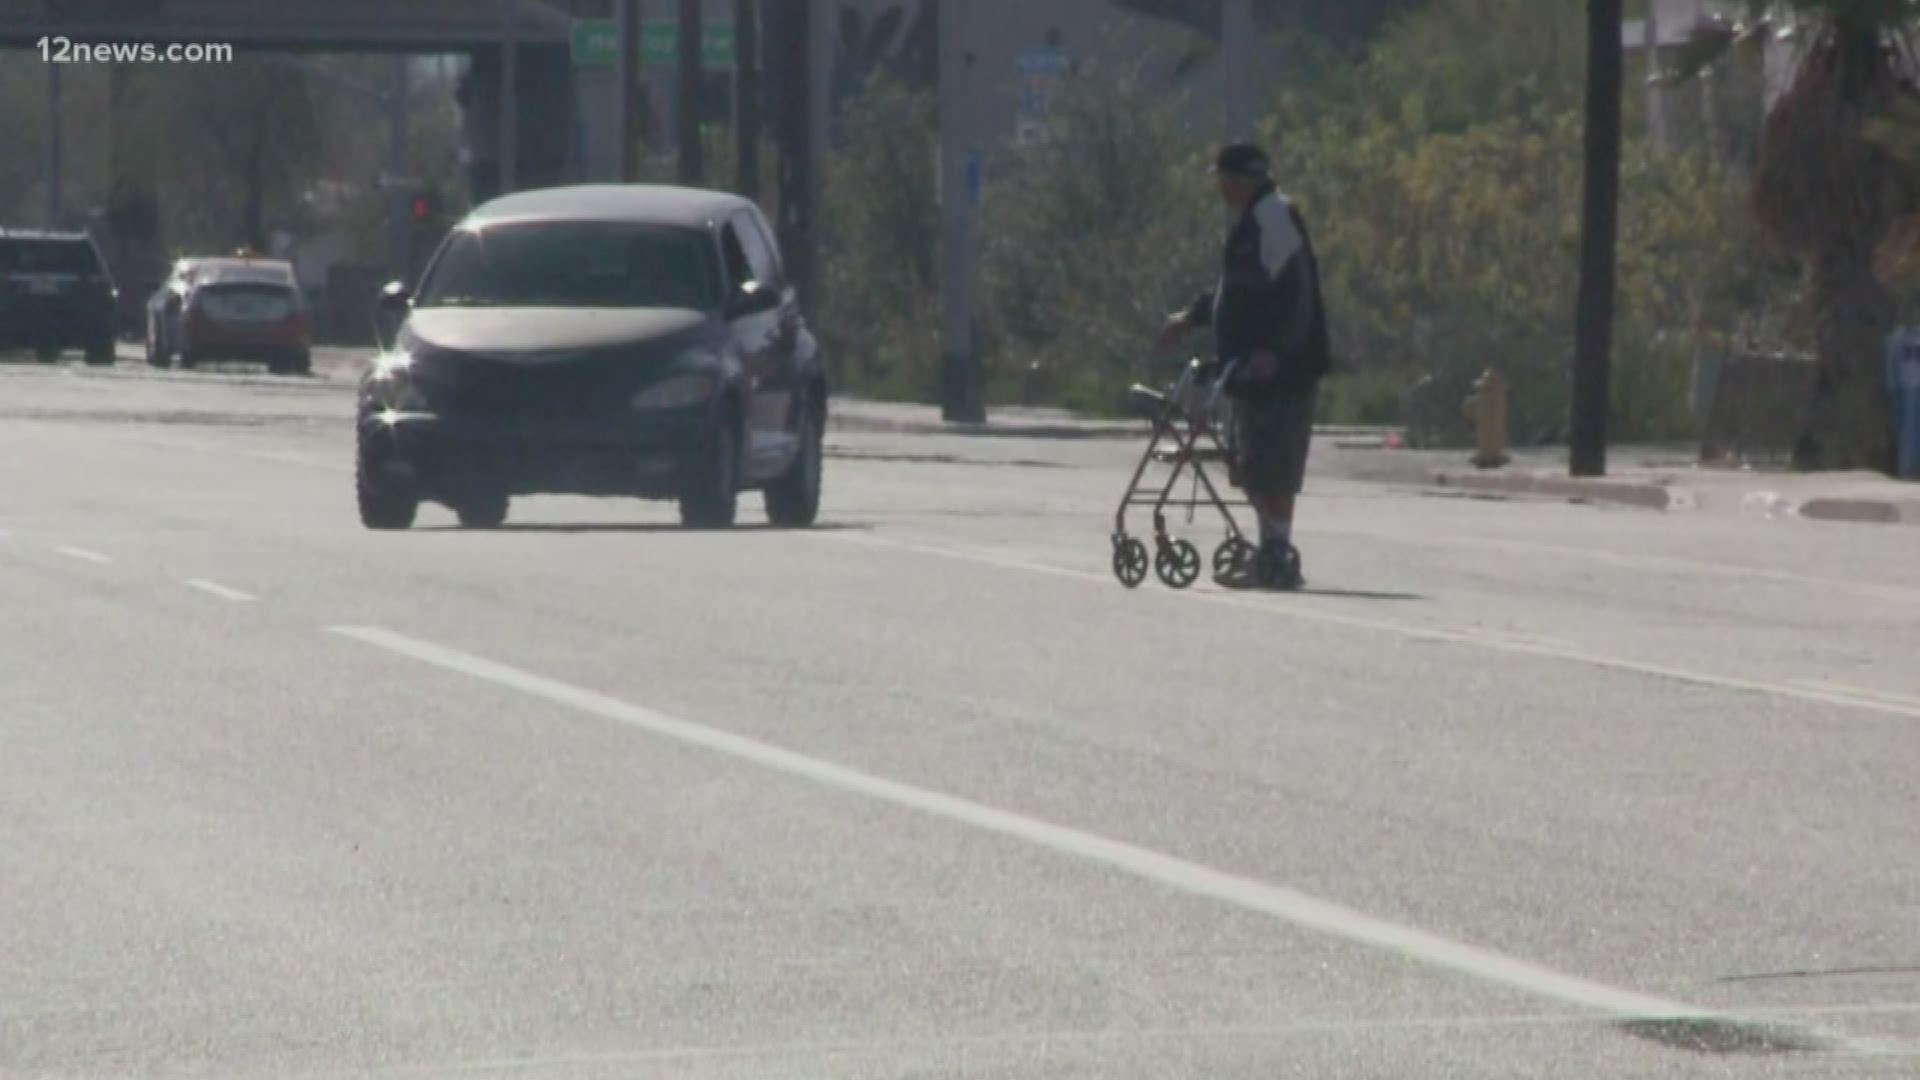walking_frame: (1110, 141, 1335, 588)
